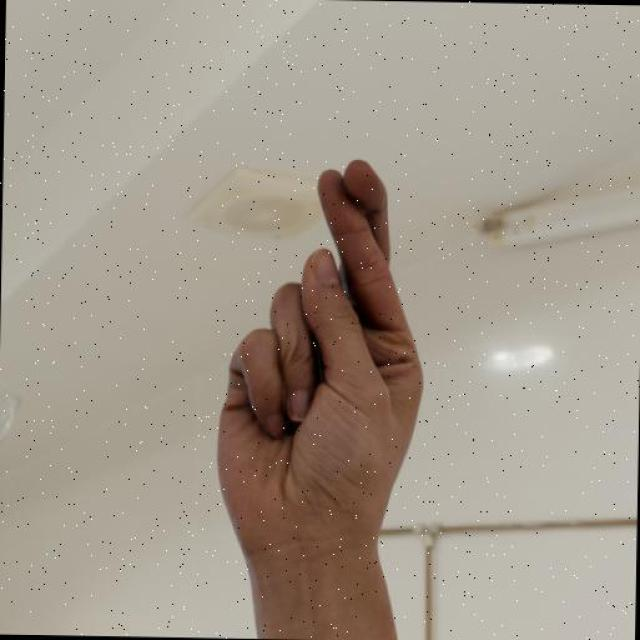R: (208, 150, 430, 576)
